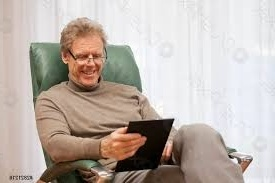not_fallen: (26, 19, 248, 183)
